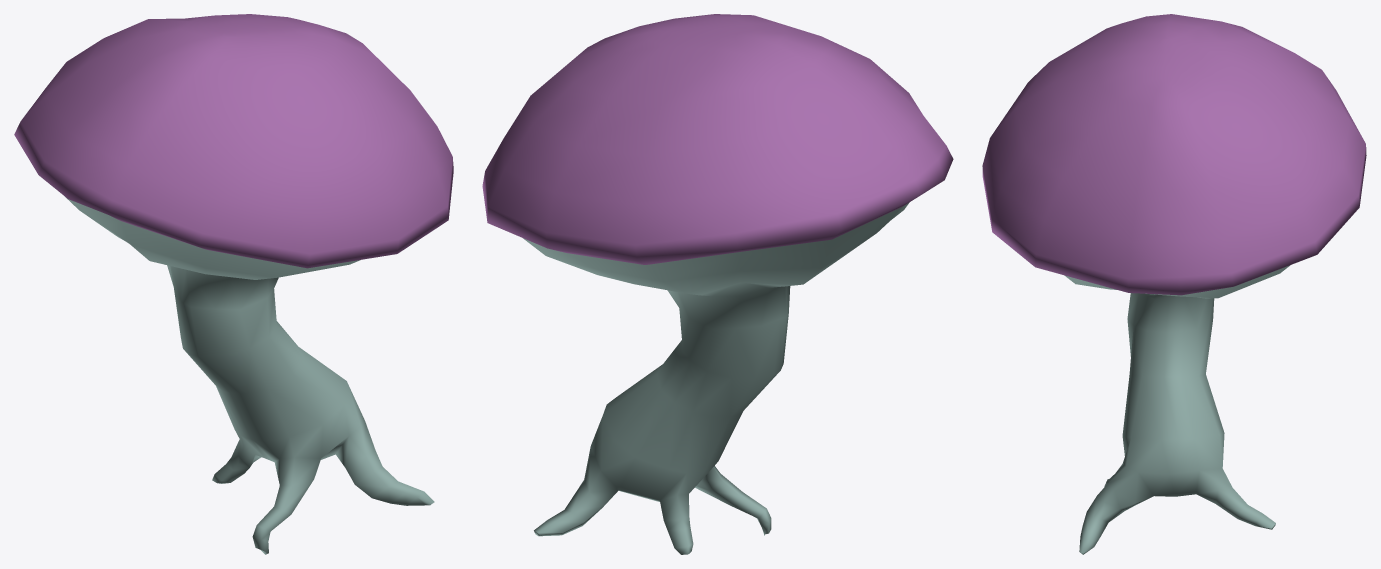
The model's file is HongoGrande_low.fbx.
3 renders of one model, left to right at view 1: azimuth 30°, elevation 25°; view 2: azimuth 150°, elevation 25°; view 3: azimuth 270°, elevation 25°, orthographic. The views are drawn at different scales.
Visible parts, largest first — view 1: HongoHeroHub_low; view 2: HongoHeroHub_low; view 3: HongoHeroHub_low.
Part boxes in pixels (x1,y1,x2,y2): HongoHeroHub_low: (14,14,453,554); HongoHeroHub_low: (482,14,953,554); HongoHeroHub_low: (982,14,1366,554).
Size of the model in its own units: 523 by 638 by 479.
